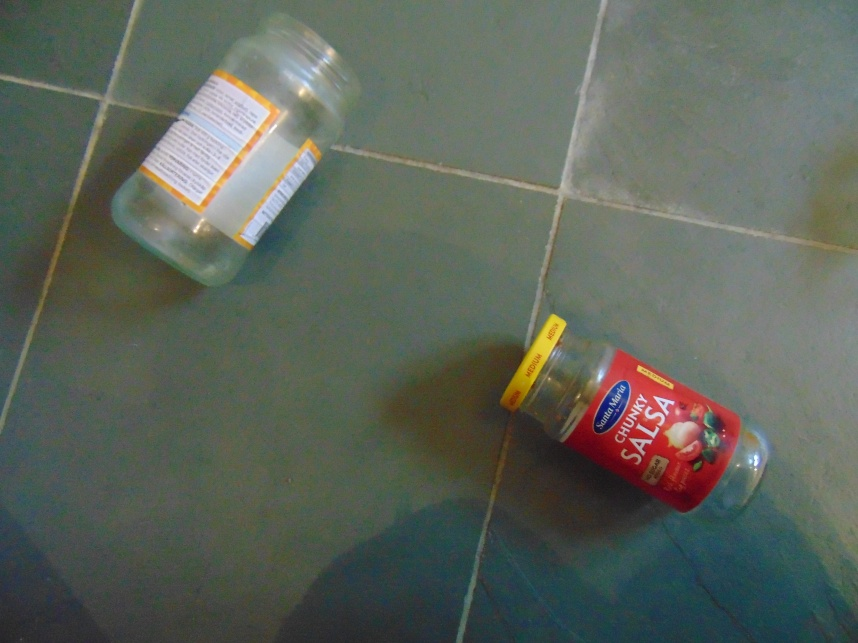glass_bottle: (110, 11, 363, 289), (498, 312, 772, 523)
